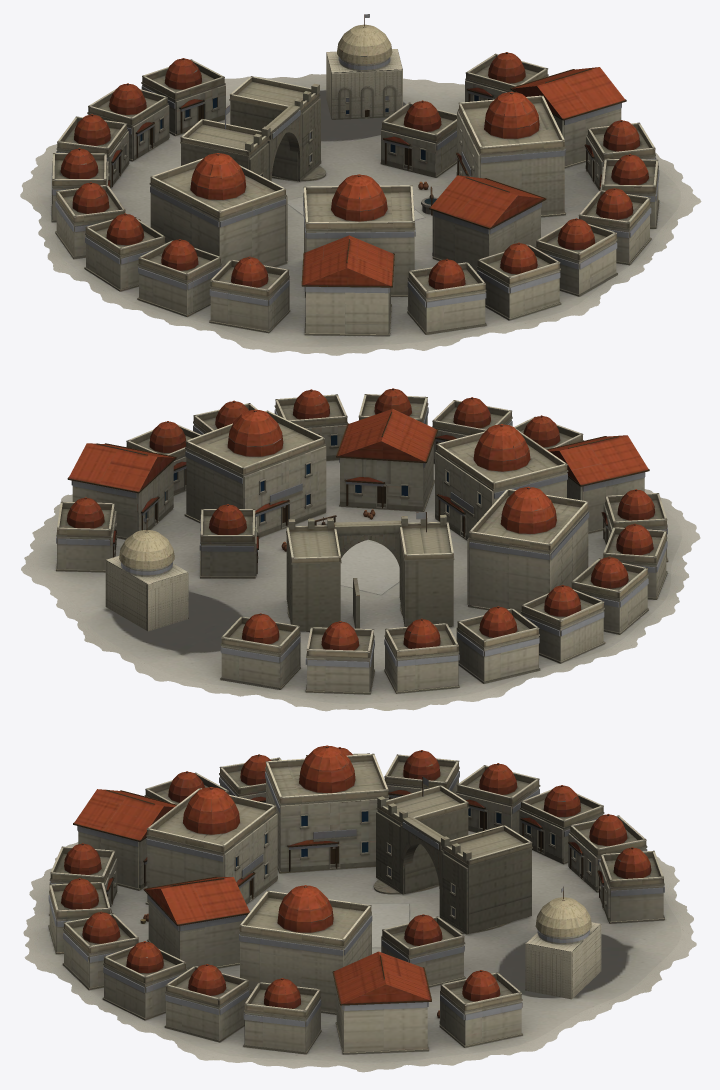
File: gunpowder-town-big-b-israelite.glb
3 views of the same model, one above another, from view 1: azimuth 30°, elevation 25°; view 2: azimuth 150°, elevation 25°; view 3: azimuth 270°, elevation 25° (orthographic).
Parts seen in each view (by area): view 1: LOD0; view 2: LOD0; view 3: LOD0.
Boxes of the visible parts, x1=… form: LOD0: x1=20, y1=14, x2=701, y2=355; LOD0: x1=21, y1=388, x2=700, y2=711; LOD0: x1=23, y1=745, x2=696, y2=1072.
Size of what is drawn, in the model's own units: 7.91 by 1.36 by 7.95.
Materials: 3 (3 with a texture image).
